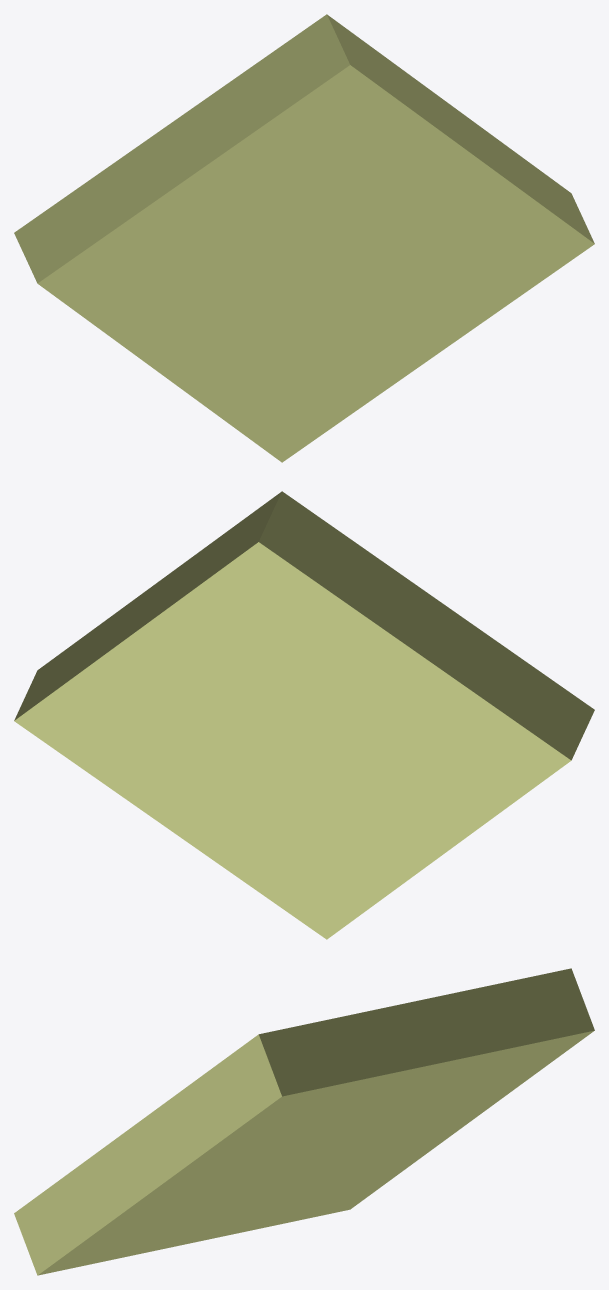
3 views of the same model, one above another, from view 1: azimuth 30°, elevation 25°; view 2: azimuth 150°, elevation 25°; view 3: azimuth 330°, elevation 25° (orthographic).
Visible parts, largest first — view 1: 0_2_2_0_0_0_1_3_0_3_3; view 2: 0_2_2_0_0_0_1_3_0_3_3; view 3: 0_2_2_0_0_0_1_3_0_3_3.
Part boxes in pixels (x1,y1,x2,y2): 0_2_2_0_0_0_1_3_0_3_3: (14, 14, 594, 462); 0_2_2_0_0_0_1_3_0_3_3: (14, 491, 594, 939); 0_2_2_0_0_0_1_3_0_3_3: (14, 968, 594, 1275).
Size of the model in its own units: 7.14 by 4.03 by 9.
